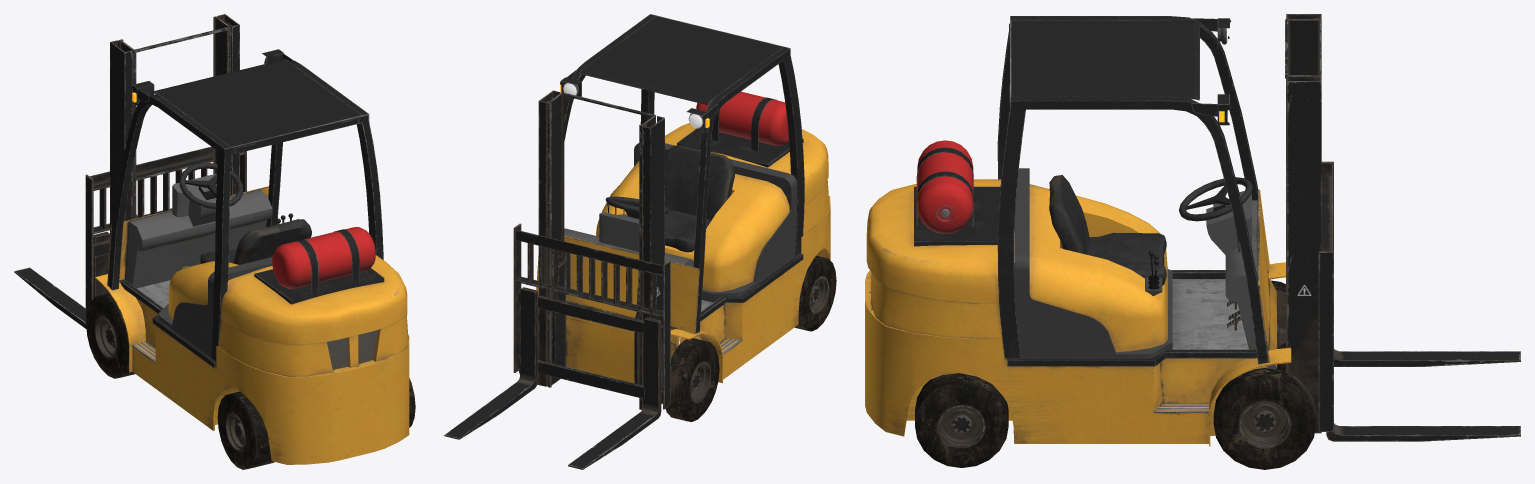
Rendered from forklift_truck_louismuir_1k.glb.
3 renders of one model, left to right at view 1: azimuth 30°, elevation 25°; view 2: azimuth 150°, elevation 25°; view 3: azimuth 270°, elevation 25°, orthographic. The views are drawn at different scales.
Parts seen in each view (by area): view 1: forklift_body_A, forklift_body_B; view 2: forklift_body_B, forklift_body_A; view 3: forklift_body_A, forklift_body_B.
Boxes of the visible parts, box(x1,y1,x2,y2) form: forklift_body_A: box(95, 49, 409, 464); forklift_body_B: box(14, 14, 415, 469); forklift_body_B: box(444, 90, 836, 469); forklift_body_A: box(560, 14, 830, 382); forklift_body_A: box(865, 16, 1291, 446); forklift_body_B: box(915, 14, 1520, 469).
Bounding box in the file's own units: 156 × 268 × 426.
3 materials, 3 textured.
